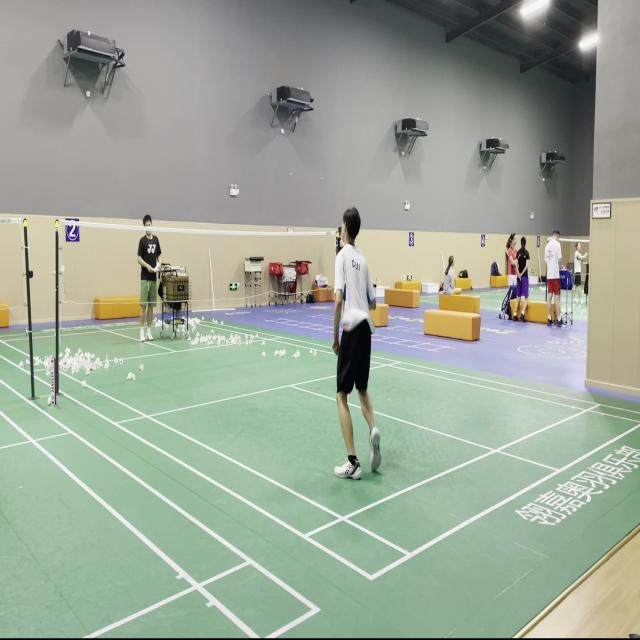shuttlecock: (60, 265, 66, 273)
